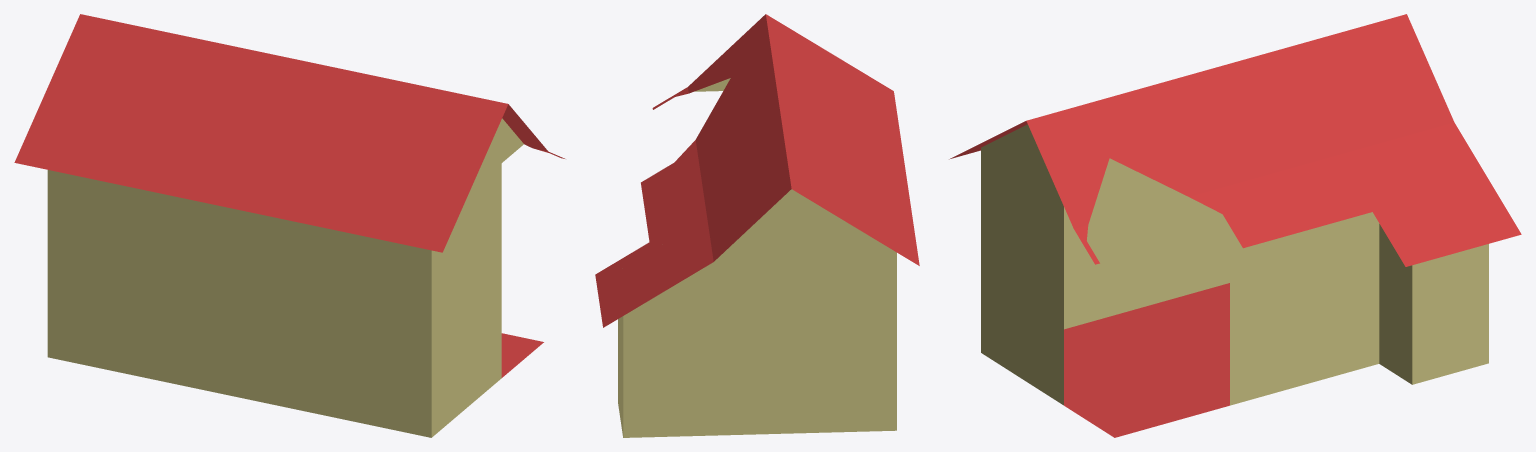
3 renders of one model, left to right at view 1: azimuth 30°, elevation 25°; view 2: azimuth 150°, elevation 25°; view 3: azimuth 270°, elevation 25°, orthographic. The views are drawn at different scales.
Size of the model in its own units: 20.1 by 24.32 by 13.05.
